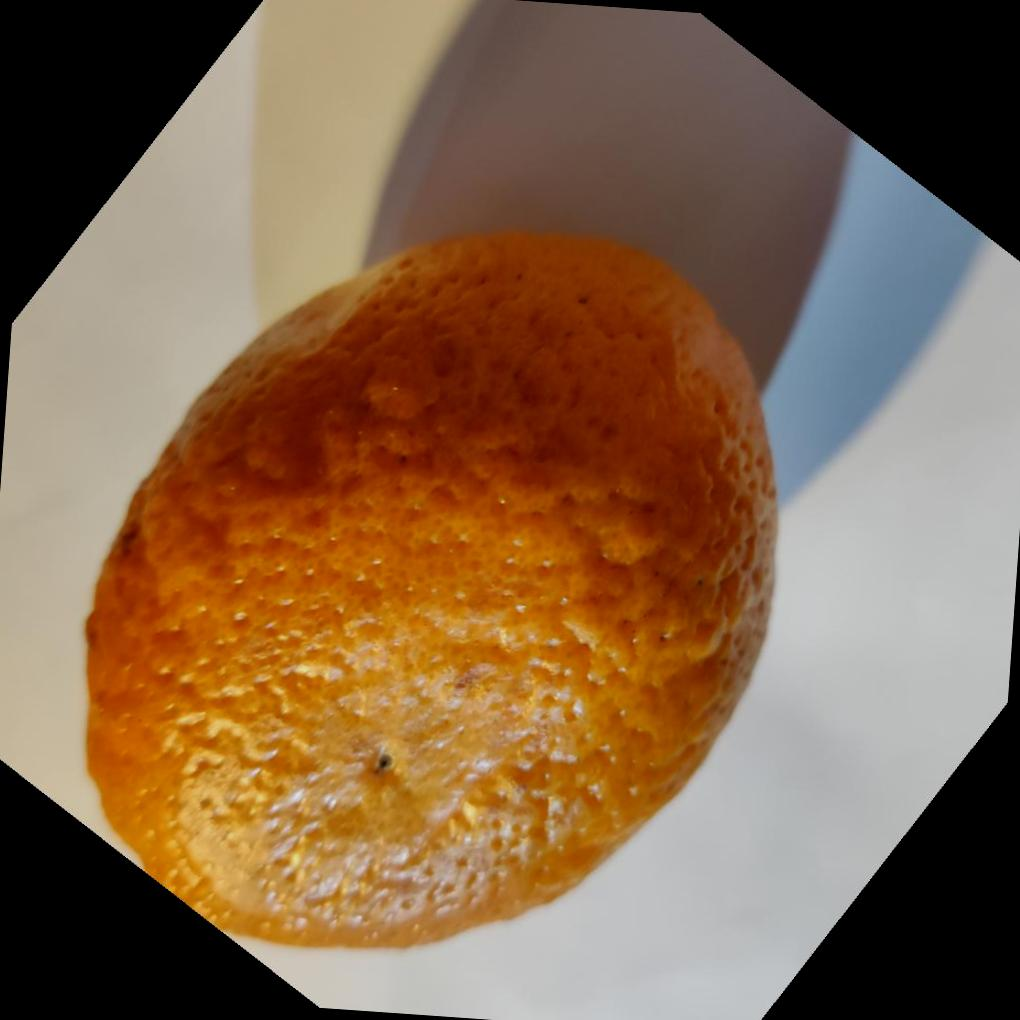FreshGuava: (85, 227, 782, 952)
